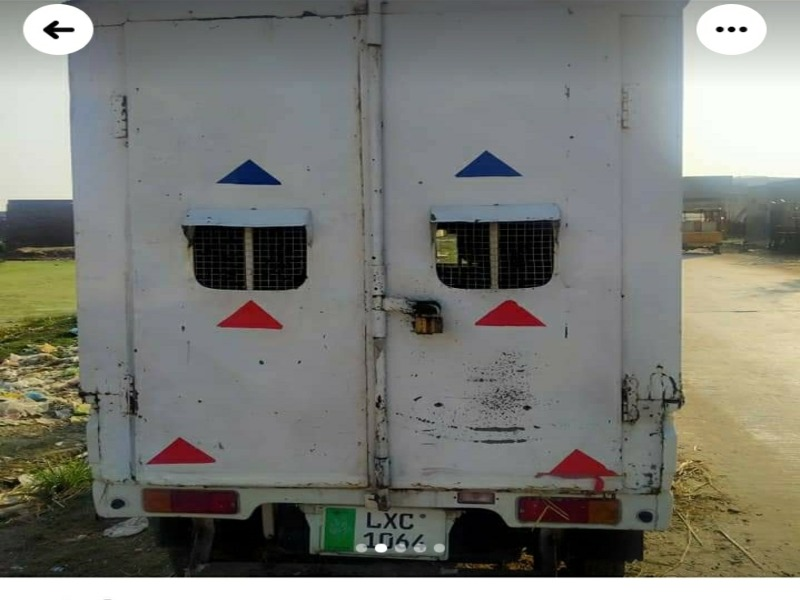License Plate: (318, 504, 451, 565)
